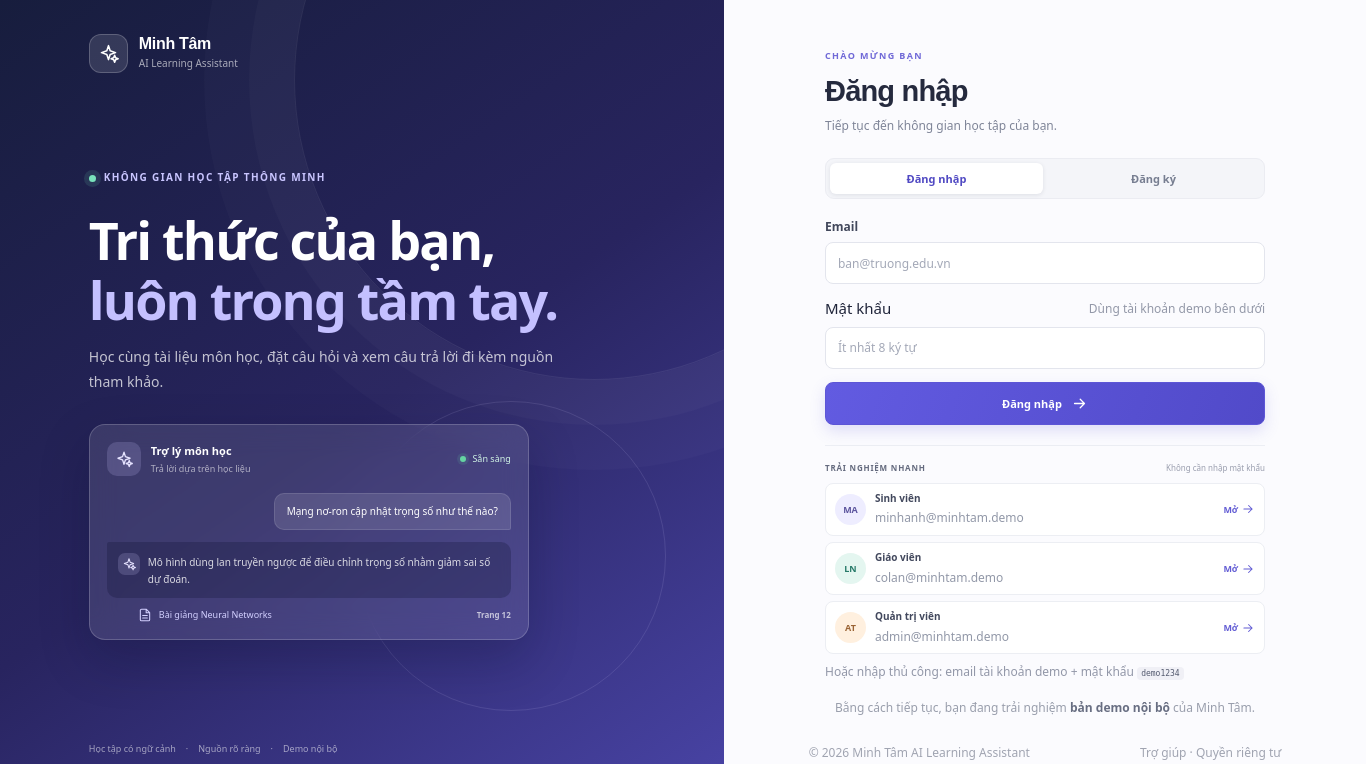
Test case: role-based demo routes › rejects an invalid demo login with an announced error
In the field labelled "Email": (1045, 263) [825,242,1265,284], type "wrong@example.test"
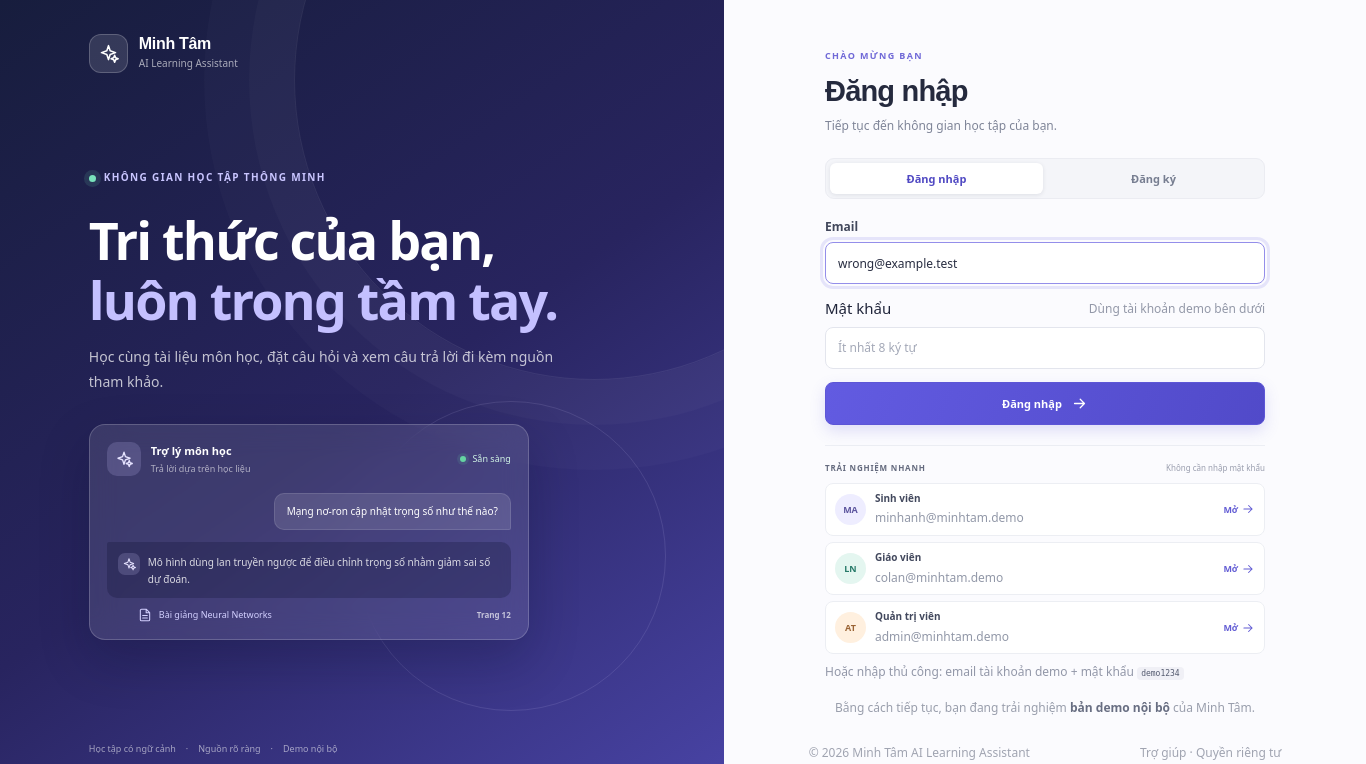
In the password field labelled "Mật khẩu": (1045, 348) [825,326,1265,368], type "wrong-password"
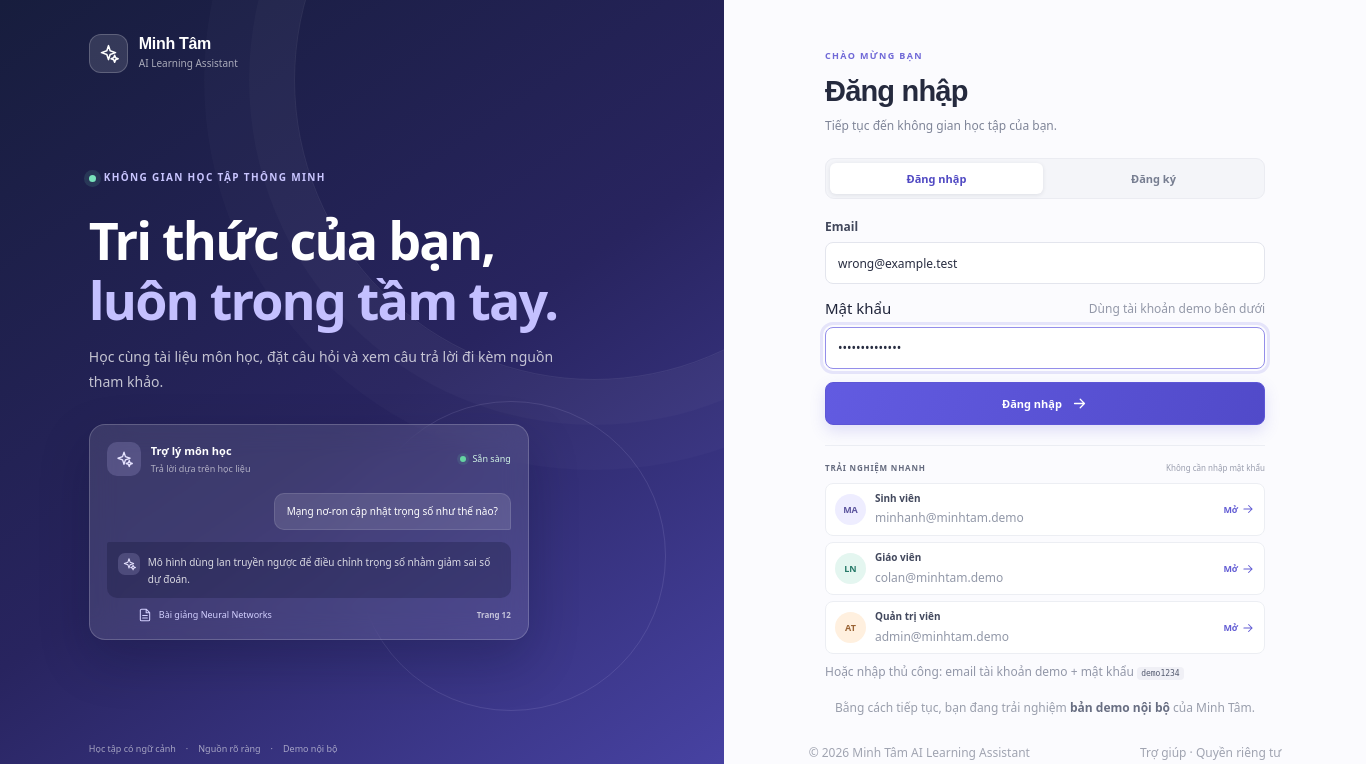
Check: the form labelled "Email" is shown, box [825,218,1265,424]
Click the submit button: click(1045, 403) [825,382,1265,424]
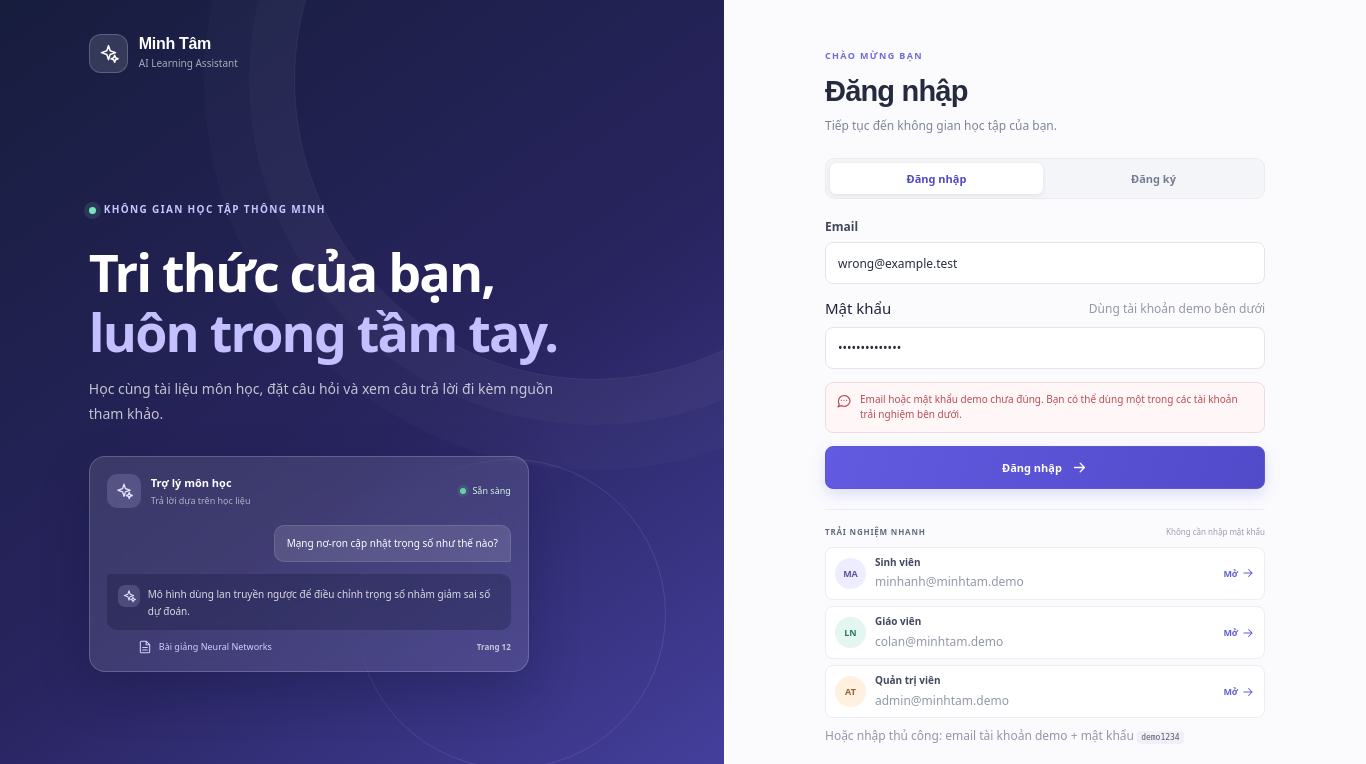
Check: the message shows "Email hoặc mật khẩu demo chưa đúng", box [860,392,1238,421]
